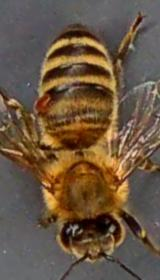varroa_mite: (31, 84, 61, 123)
